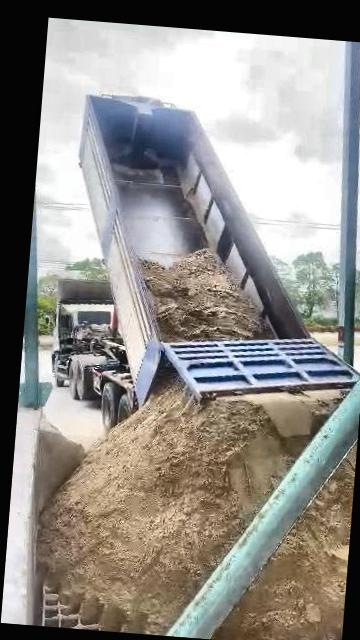sand: (36, 374, 338, 635), (213, 450, 355, 640), (146, 251, 262, 340)
